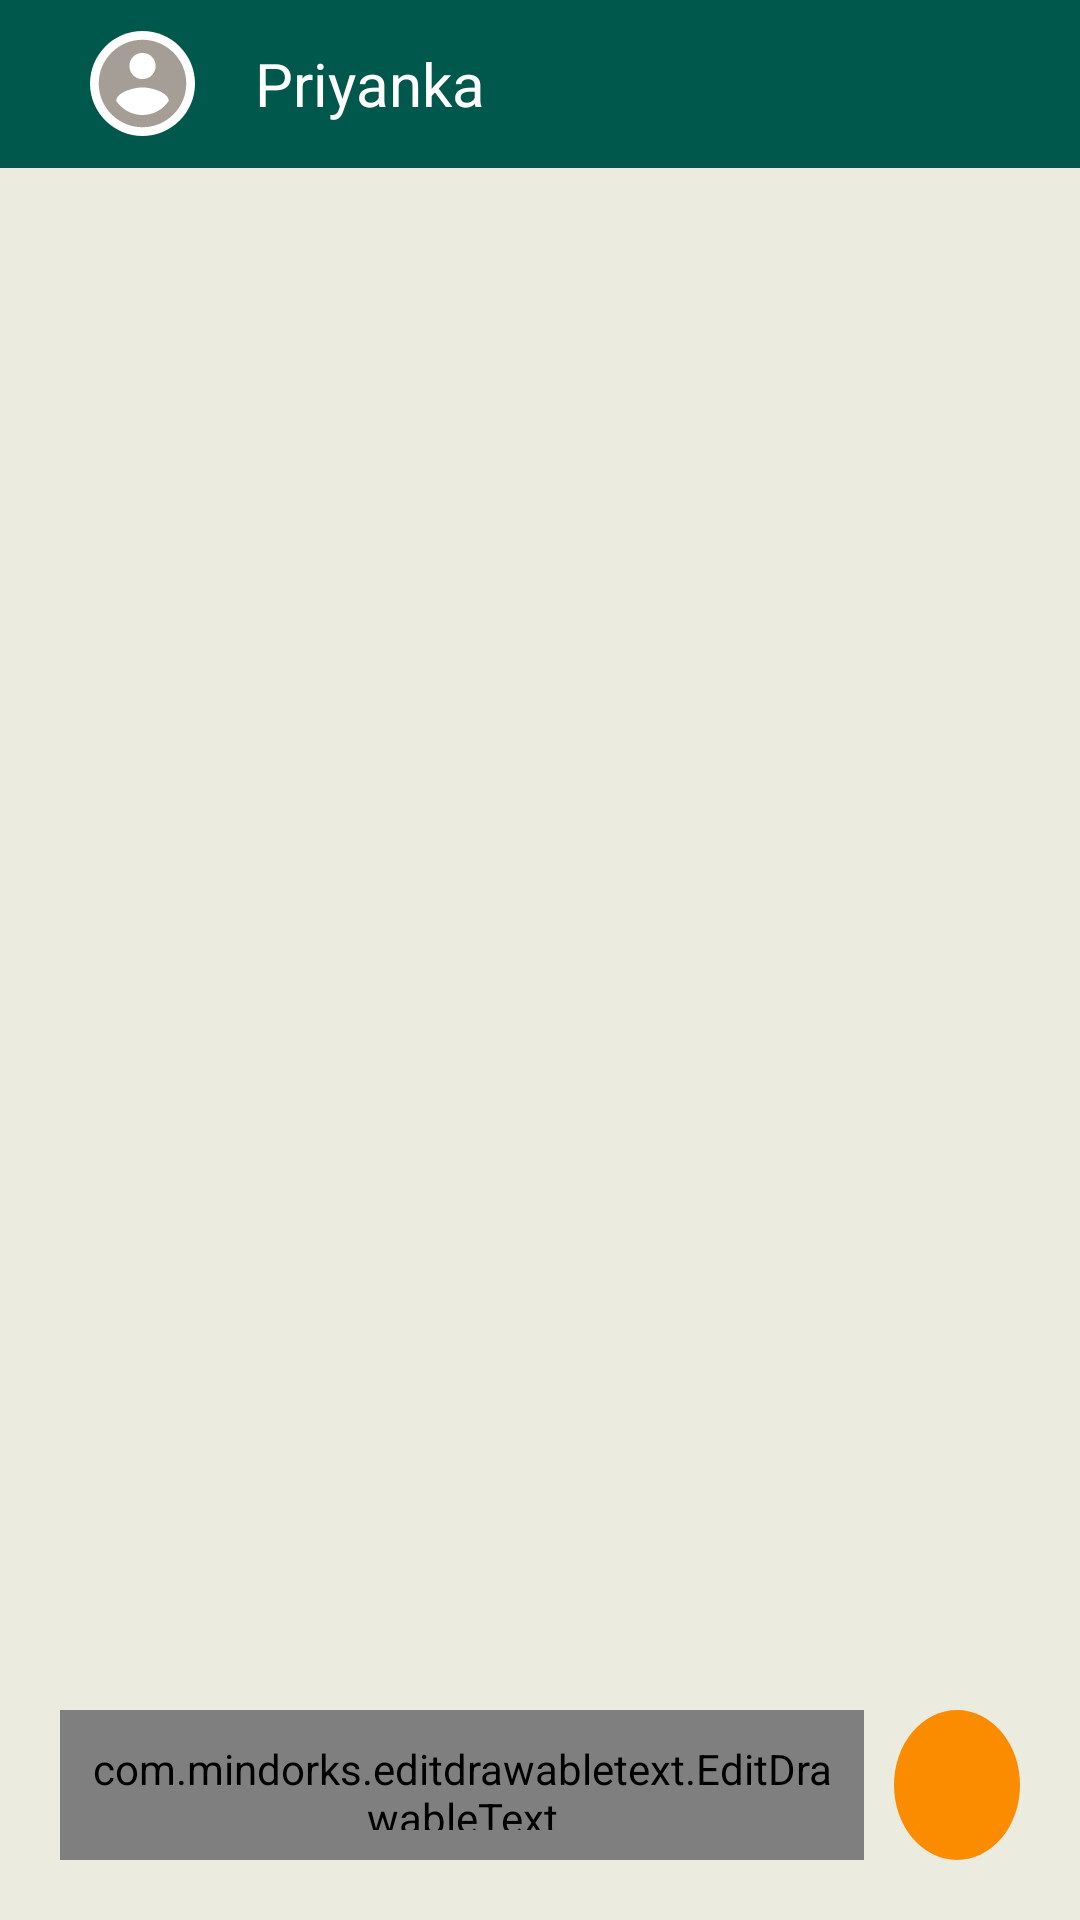

Icons on this 1080*1920 Android screen, each with the point to tap as (x,y):
account circle: (142,83)
